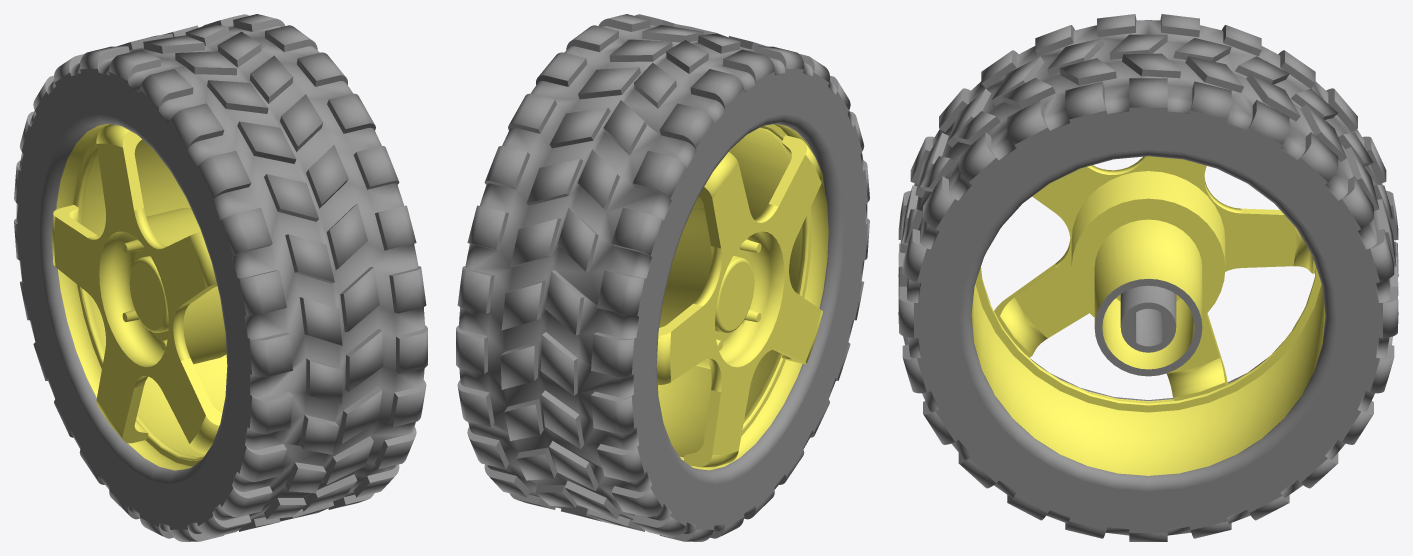
The model's file is wheel_right.dae.
The picture shows the model from 3 angles, left to right: view 1: azimuth 30°, elevation 25°; view 2: azimuth 150°, elevation 25°; view 3: azimuth 270°, elevation 25°; orthographic projection.
Parts seen in each view (by area): view 1: _ncl1_2; view 2: _ncl1_2; view 3: _ncl1_2.
Boxes of the visible parts, left/top/right/bottom form: _ncl1_2: left=14, top=14, right=427, bottom=541; _ncl1_2: left=456, top=14, right=869, bottom=541; _ncl1_2: left=898, top=14, right=1398, bottom=541.
Bounding box in the file's own units: 0.0282 × 0.065 × 0.065.
